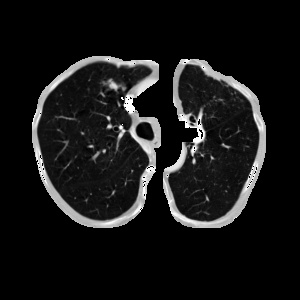PN: (104, 77, 120, 93)
